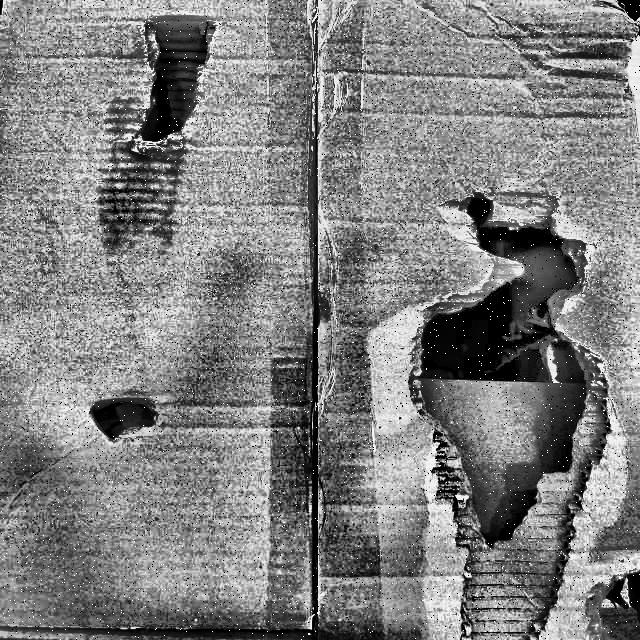box: (0, 0, 639, 639)
hole: (402, 194, 610, 546), (125, 13, 221, 156), (81, 388, 160, 444)
